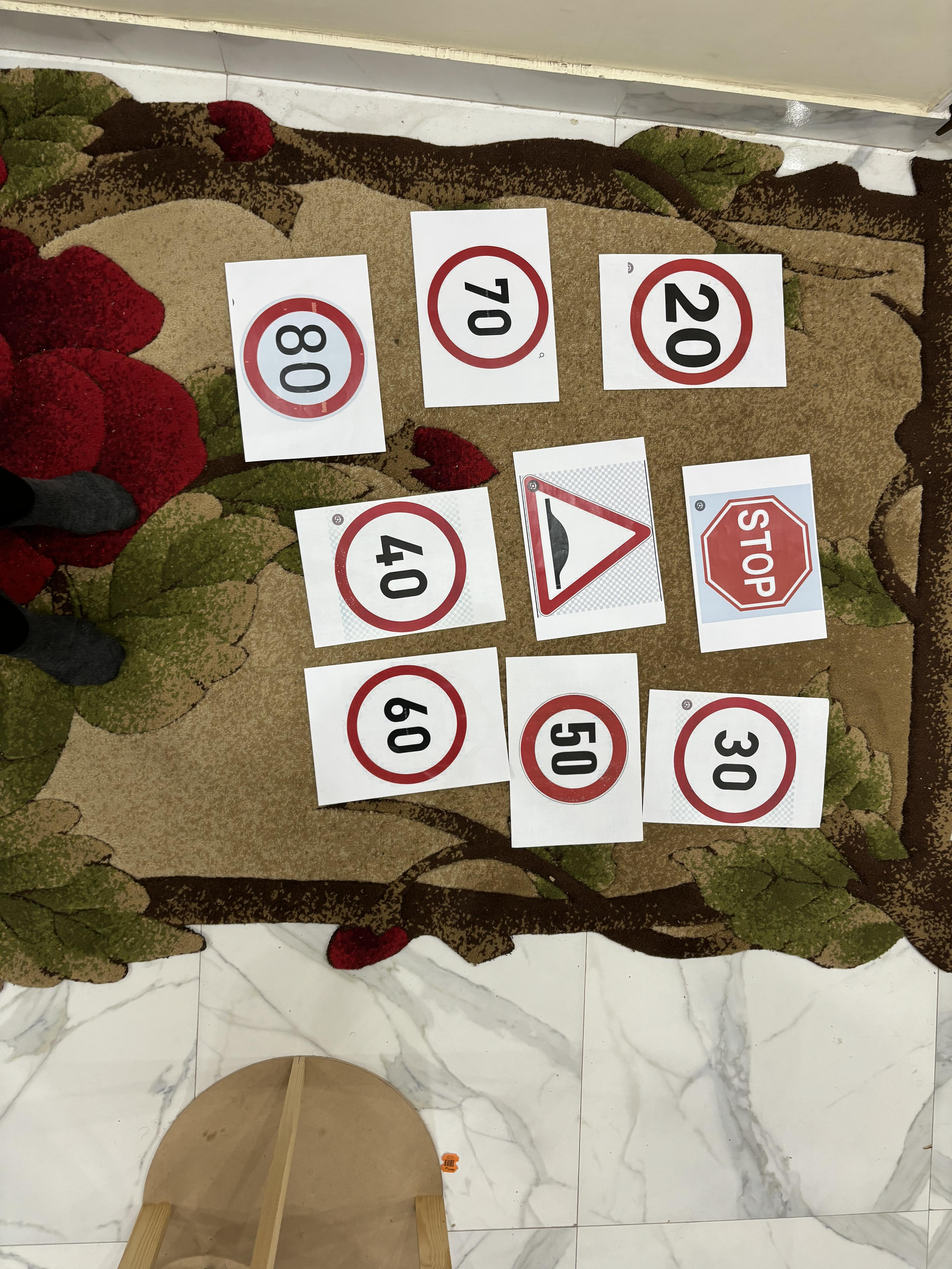20-Speed: (625, 258, 767, 390)
30-speed: (672, 687, 801, 831)
40-Speed: (340, 491, 472, 634)
50-Speed: (507, 676, 632, 813)
60-Speed: (347, 660, 472, 787)
70-Speed: (429, 243, 554, 387)
80-Speed: (238, 287, 365, 420)
Hump: (520, 456, 646, 639)
Stop: (689, 478, 824, 637)
